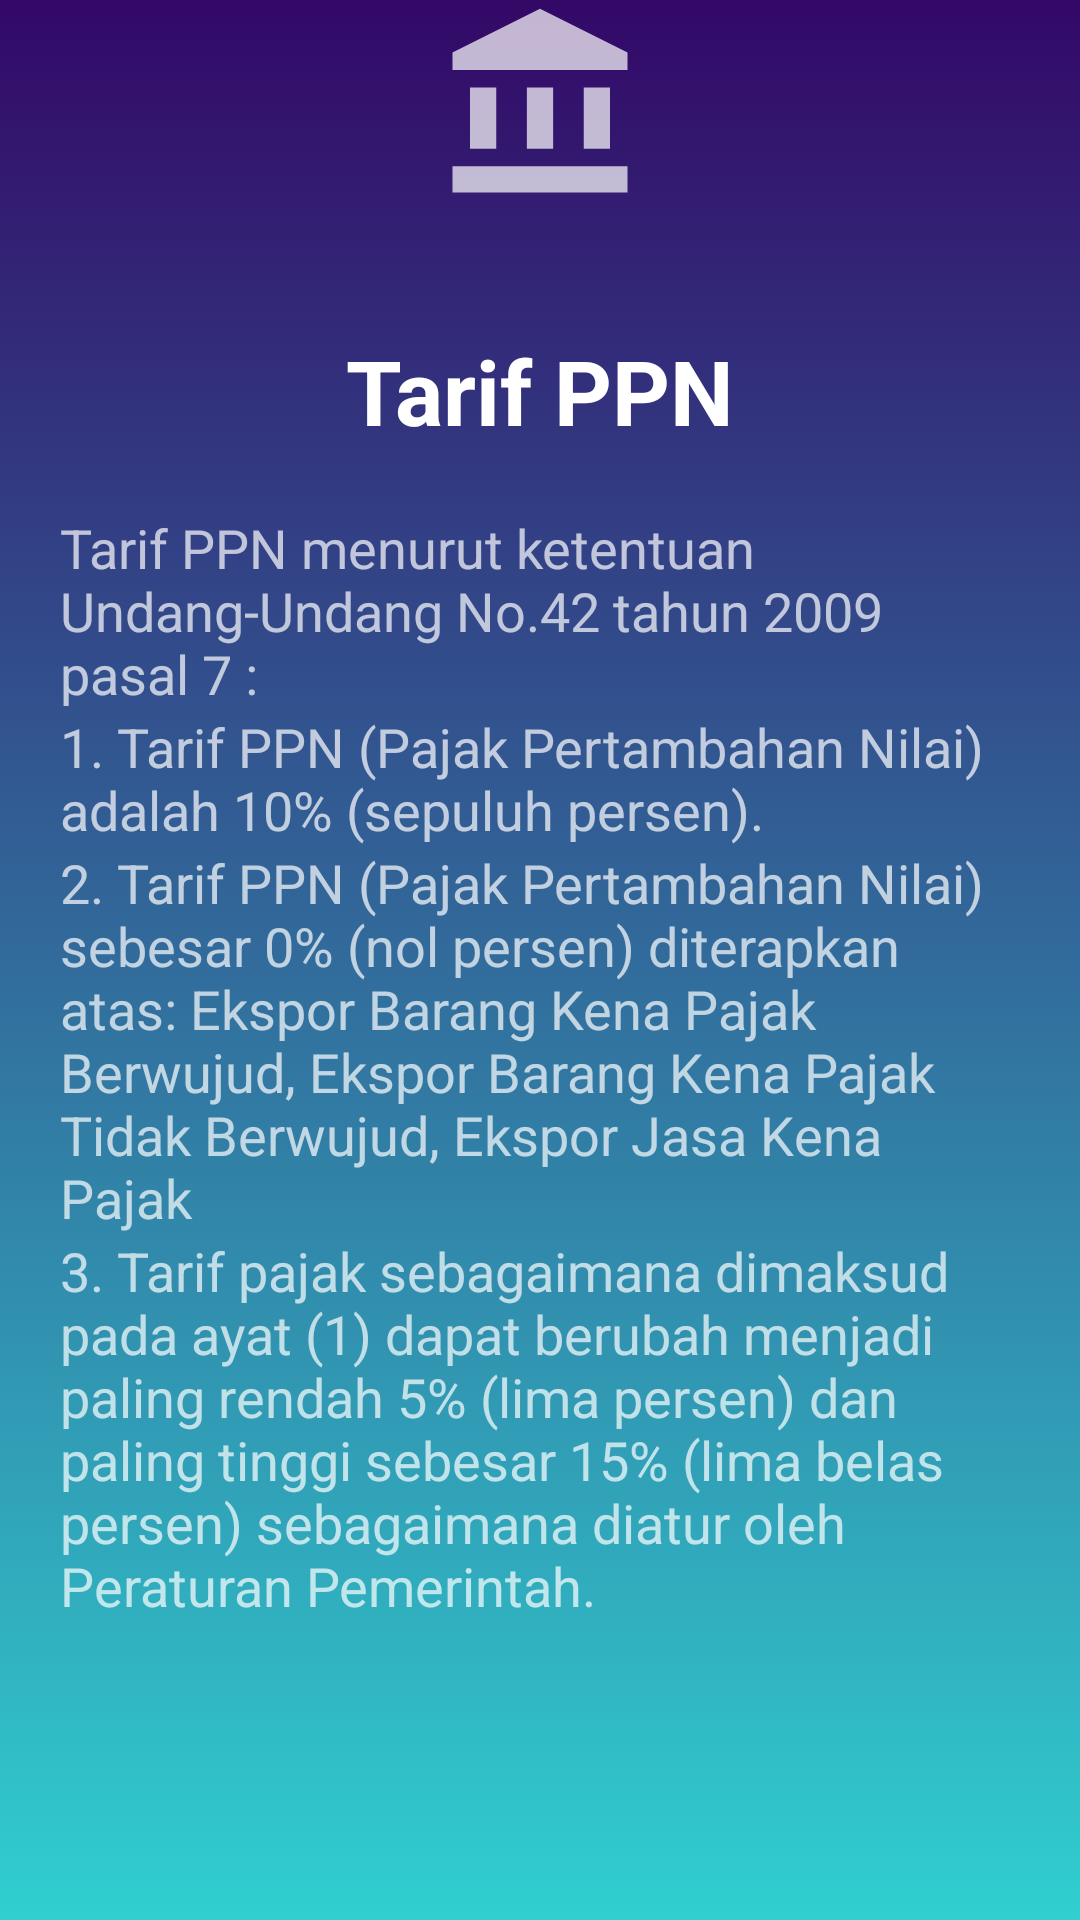

Point at icon controls on the screen. Image size 1080px x 1920px, points as [x,y].
account balance: [540,101]
